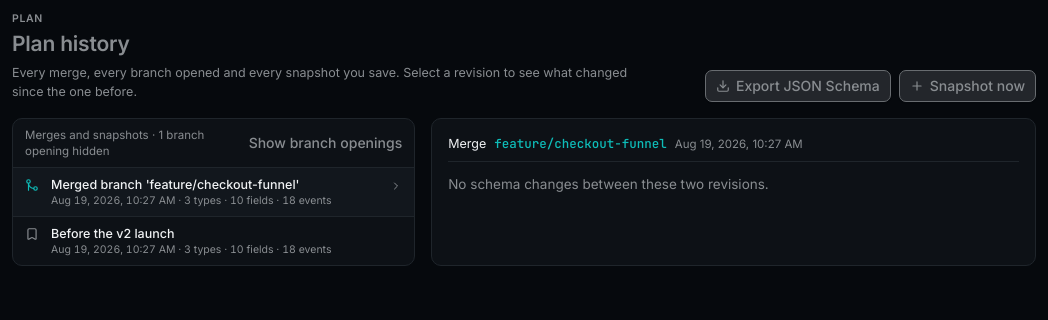
Test case: HistoryTab — what wrote each revision › folds branch openings away when the page has merges or snapshots, and shows them on request
The image size is (1048, 320).
Expected: the text "Merged branch 'feature/checkout-funnel'" is shown, x1=51 y1=176 x2=300 y2=192
Expected: the text "Before the v2 launch" is shown, x1=51 y1=226 x2=174 y2=240
Click the button "Show branch openings" at (325, 142), box x1=249 y1=132 x2=402 y2=152
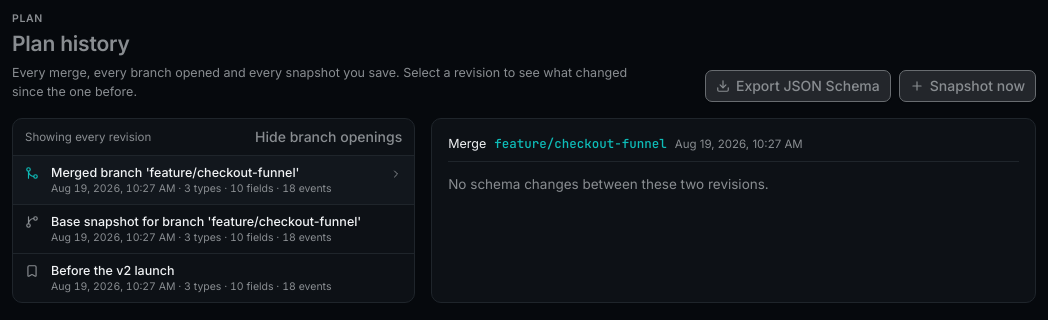
Now the text "Base snapshot for branch 'feature/checkout-funnel'" is shown, box x1=51 y1=212 x2=402 y2=230
